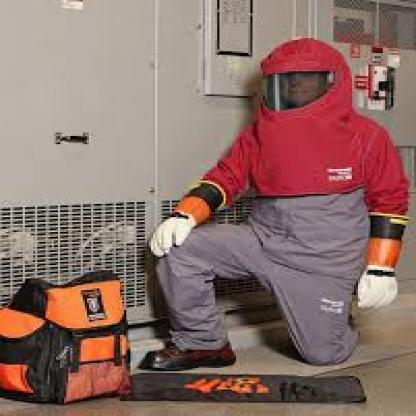gloves: (351, 216, 409, 312), (151, 195, 194, 258)
